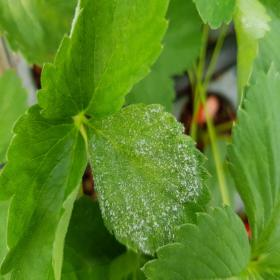Powdery Mildew Leaf: (85, 102, 214, 258)
